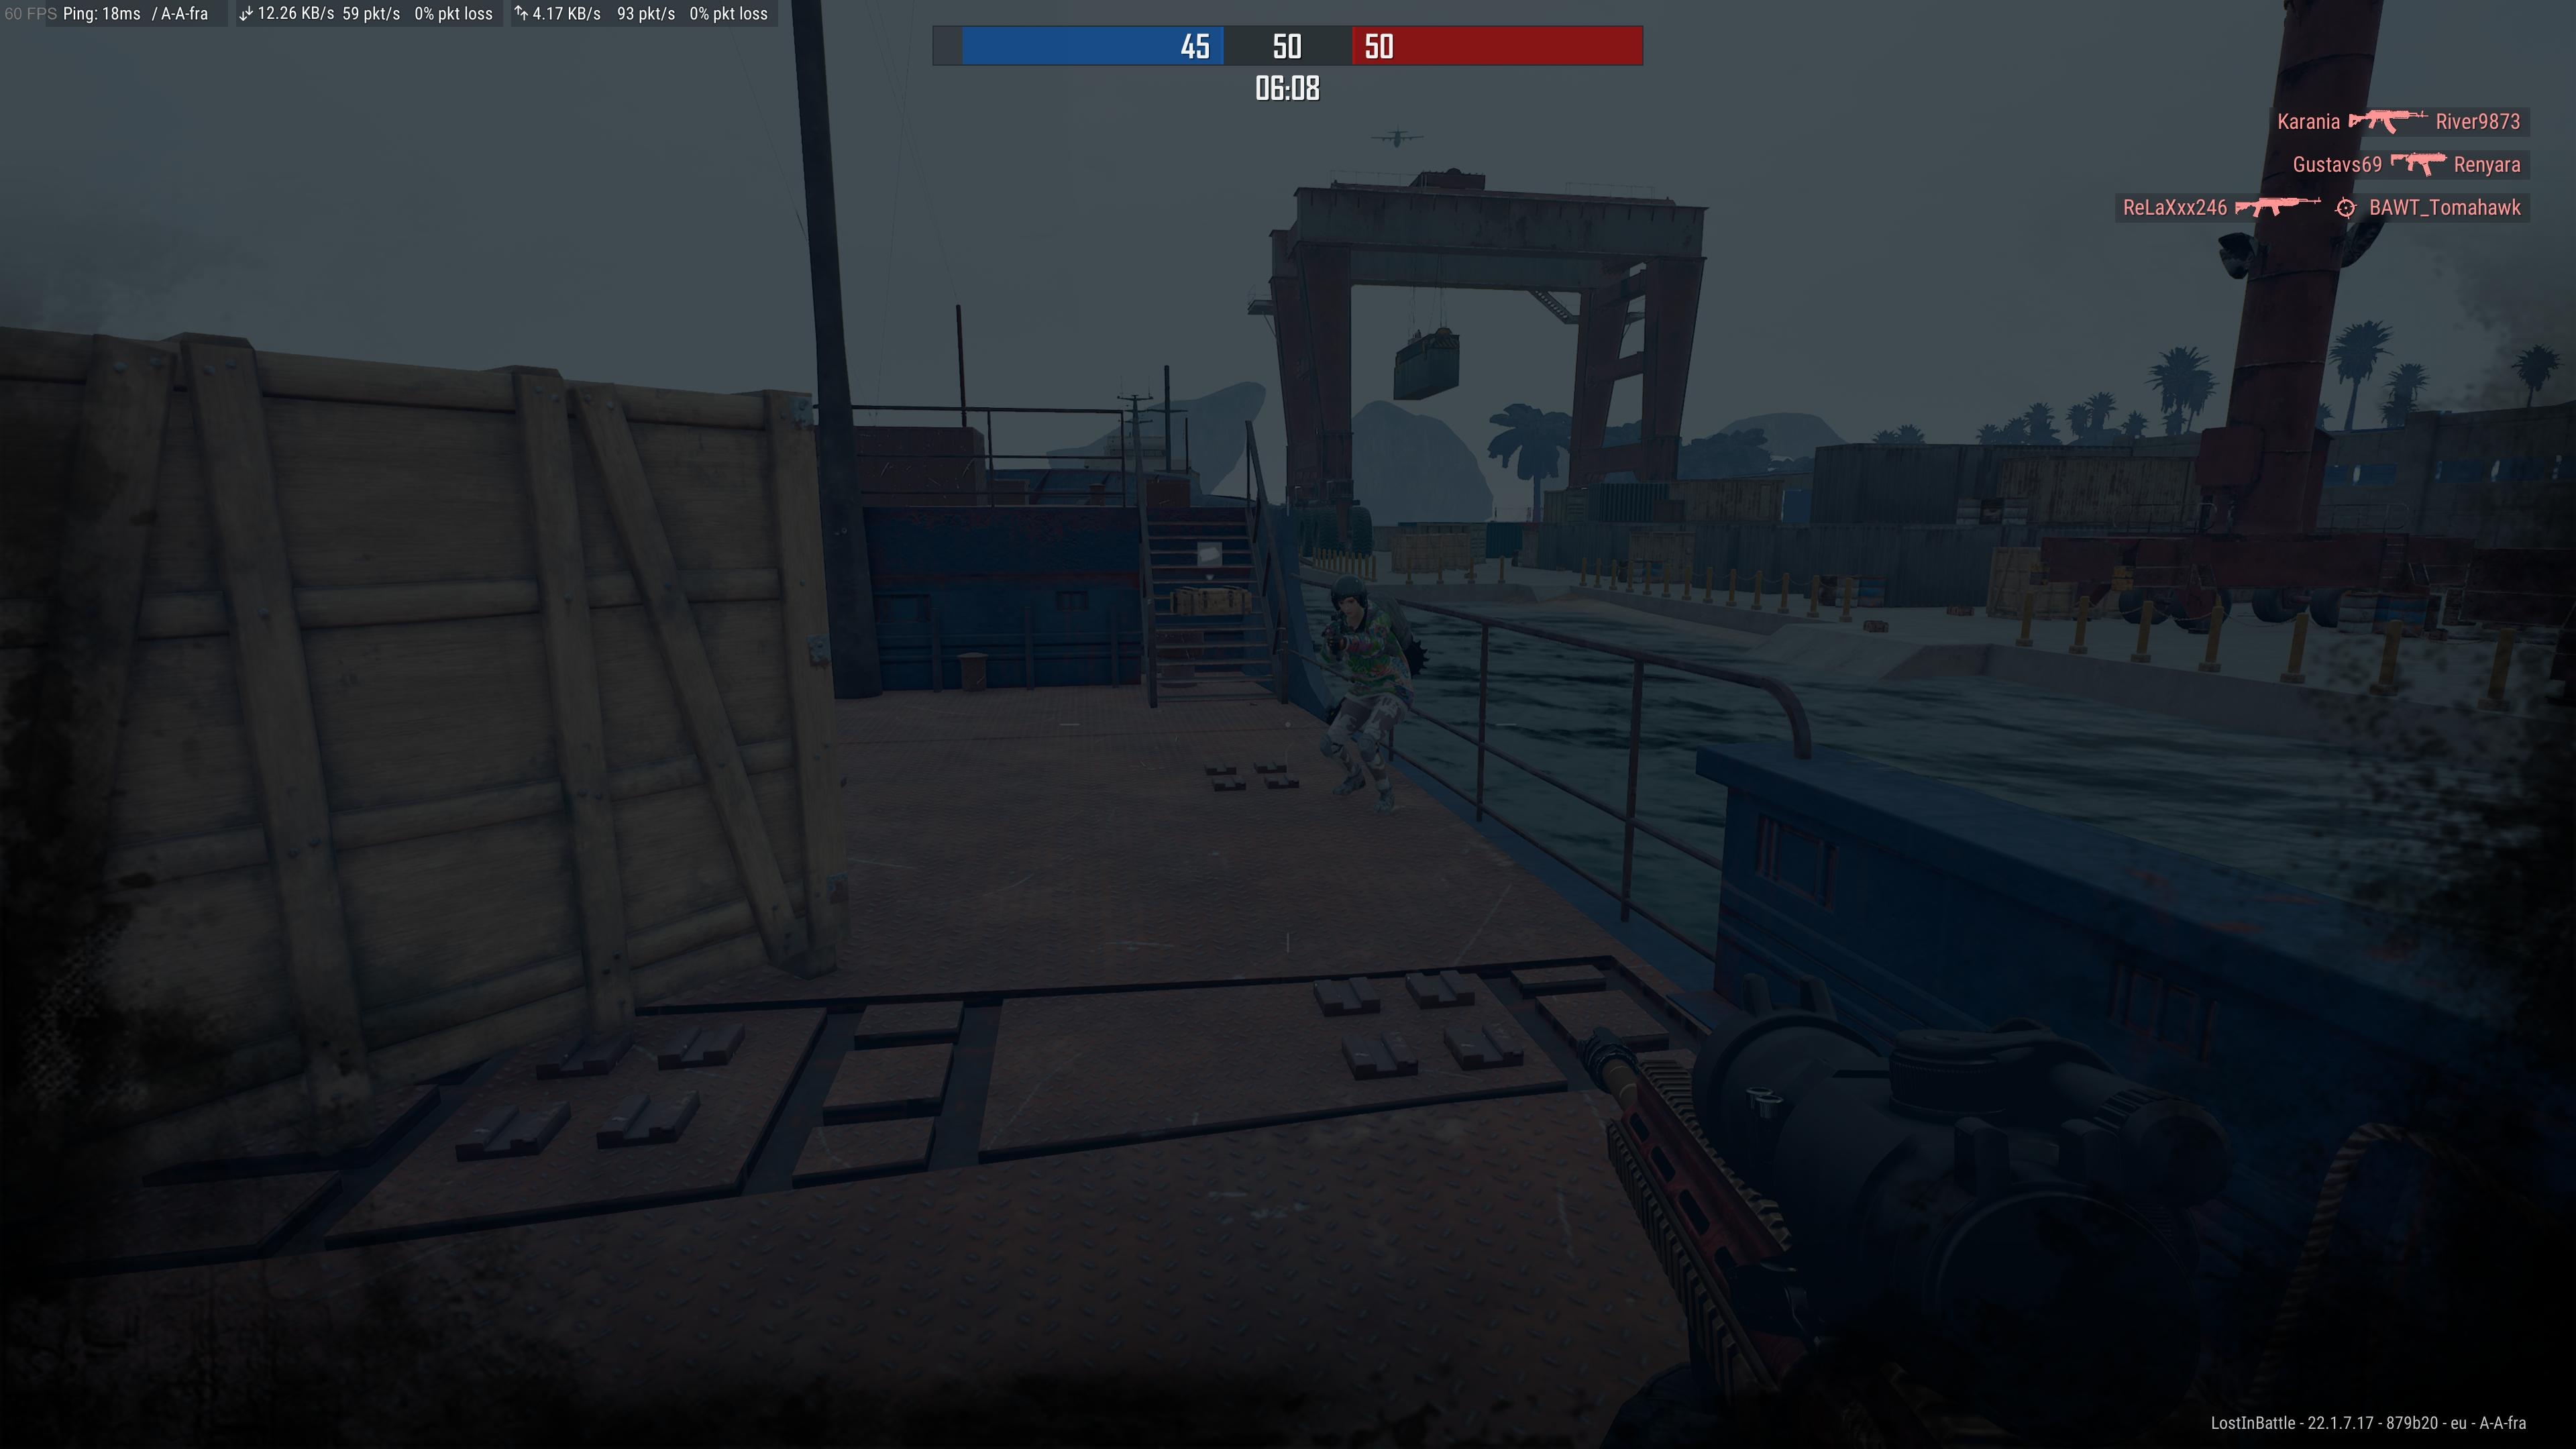enemy: (1307, 571, 1426, 814)
enemy_head: (1330, 573, 1368, 619)
